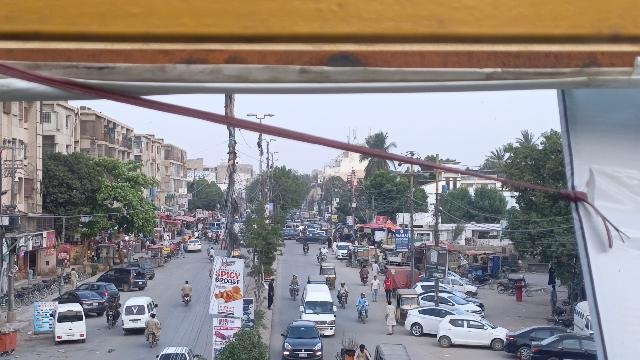Bike: (104, 307, 118, 330), (356, 304, 370, 324), (338, 291, 350, 312), (144, 332, 157, 351), (289, 283, 301, 301), (182, 293, 192, 308), (360, 274, 370, 287)
Car: (436, 312, 507, 350), (528, 332, 597, 360), (503, 324, 563, 356), (280, 319, 325, 360), (404, 304, 455, 337), (51, 290, 107, 316), (420, 293, 483, 316), (96, 265, 148, 292), (75, 281, 121, 300), (154, 344, 199, 360)
Cart: (334, 342, 372, 360)
Person: (382, 300, 398, 336), (265, 276, 277, 310), (381, 275, 393, 302), (369, 275, 380, 303), (145, 312, 160, 332), (179, 279, 195, 297), (355, 342, 370, 360), (106, 294, 120, 313), (356, 292, 368, 308), (359, 262, 370, 279), (336, 280, 349, 294), (288, 274, 301, 287)
Rickshaw: (395, 287, 418, 325), (373, 341, 410, 360), (319, 261, 337, 289)
Van: (299, 284, 338, 337), (52, 302, 88, 344), (121, 296, 157, 333)
